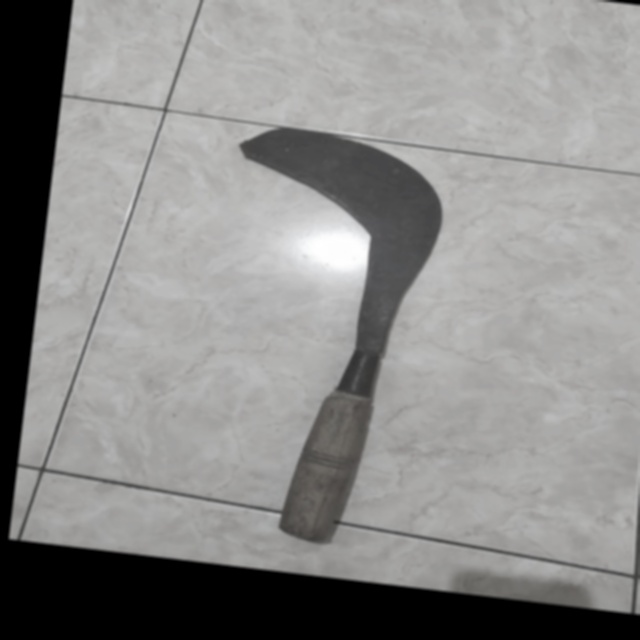Sharp-Object: (182, 64, 475, 558)
